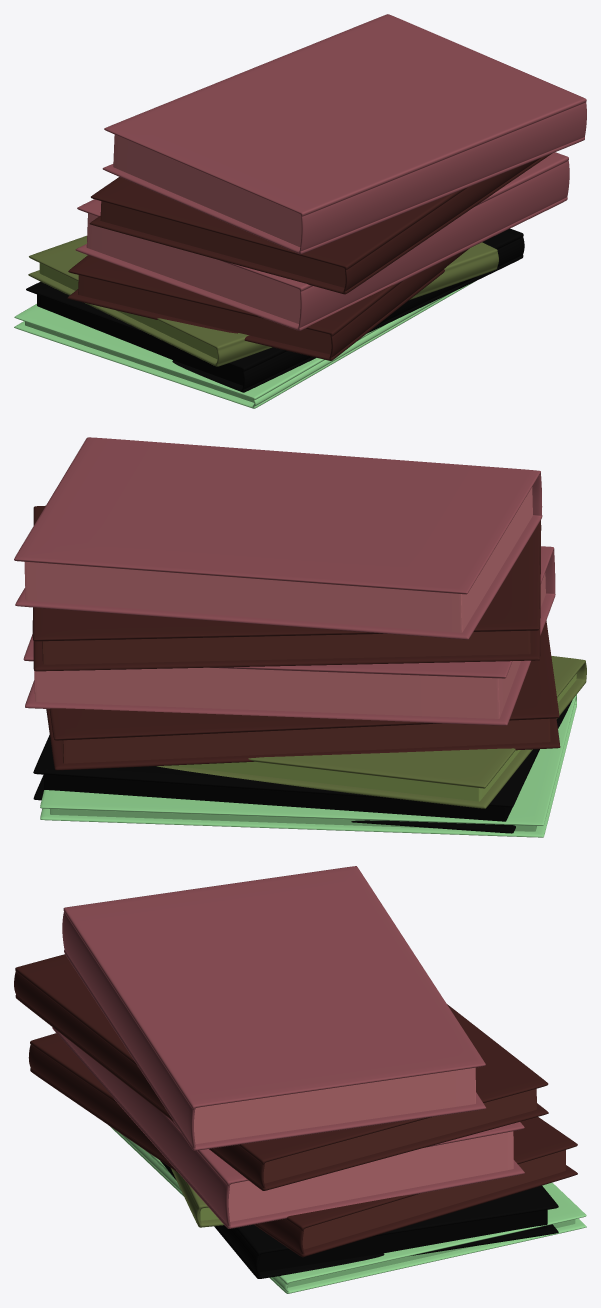
Rendered from books.fbx.
3 renders of one model, top to bottom at view 1: azimuth 30°, elevation 25°; view 2: azimuth 150°, elevation 25°; view 3: azimuth 270°, elevation 25°, orthographic. The views are drawn at different scales.
Parts seen in each view (by area): view 1: Cube.015; view 2: Cube.015; view 3: Cube.015.
Boxes of the visible parts, x1,y1,x2,y2 form: Cube.015: (14, 14, 586, 408); Cube.015: (14, 437, 586, 837); Cube.015: (14, 866, 586, 1293).
Size of the model in its own units: 340 by 129 by 301.
